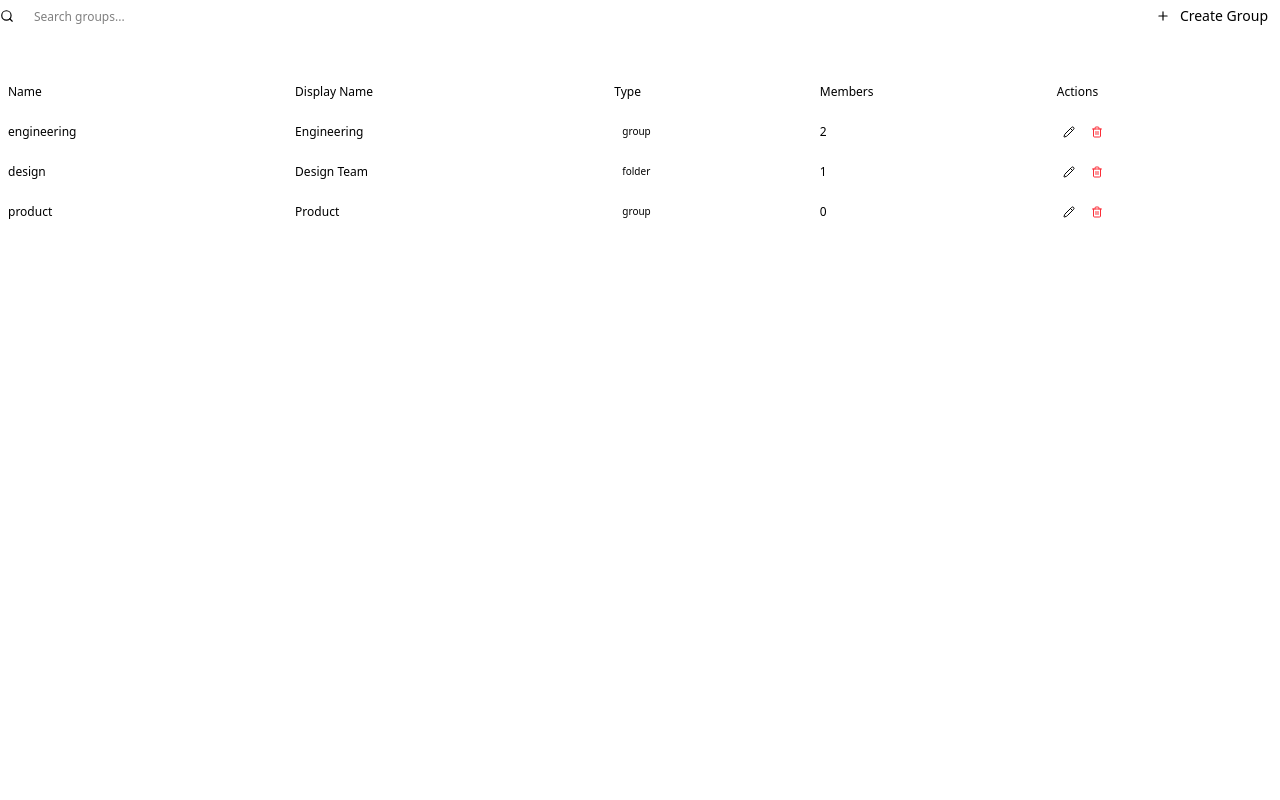
Test: GroupsTab › opens create dialog on button click
Click the button "Create Group".
click(1212, 16)  # box [1144,0,1279,32]
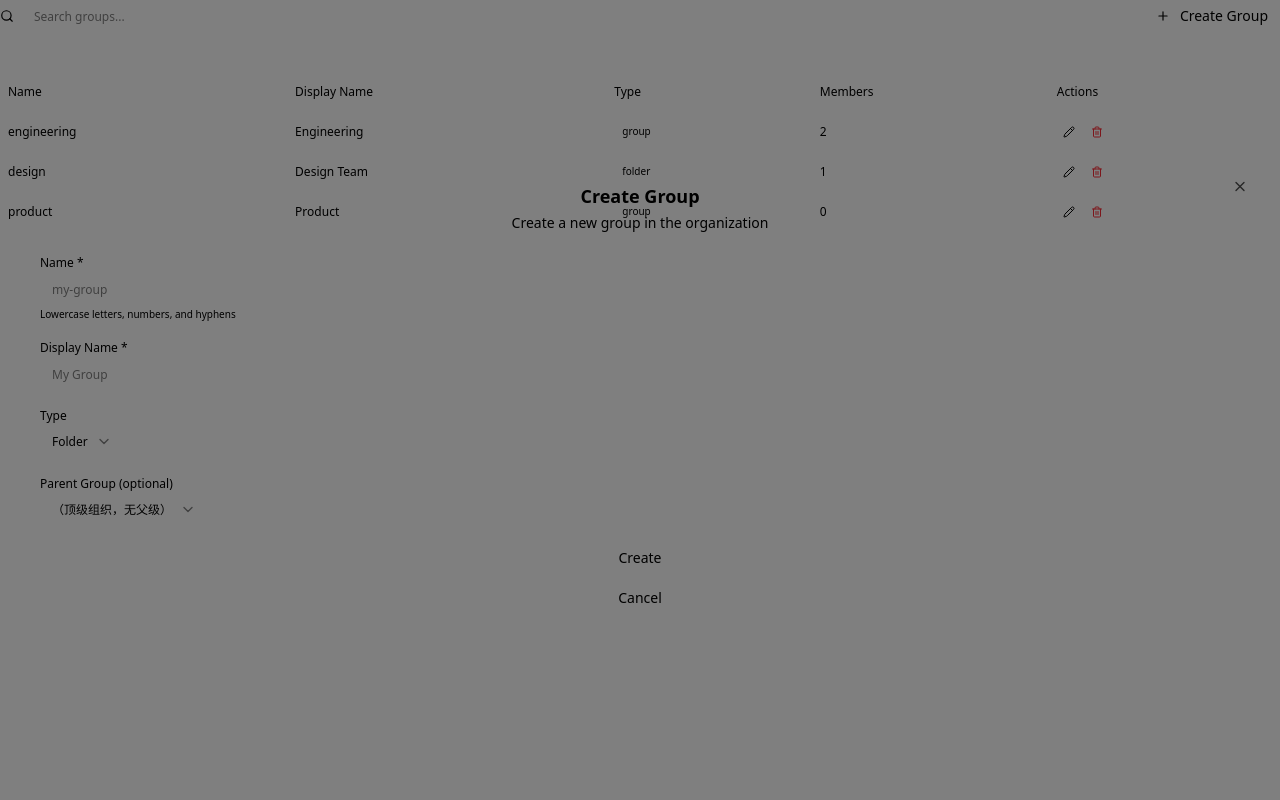
Check: the text "Create a new group in the organization" is shown, box [512,212,768,232]
